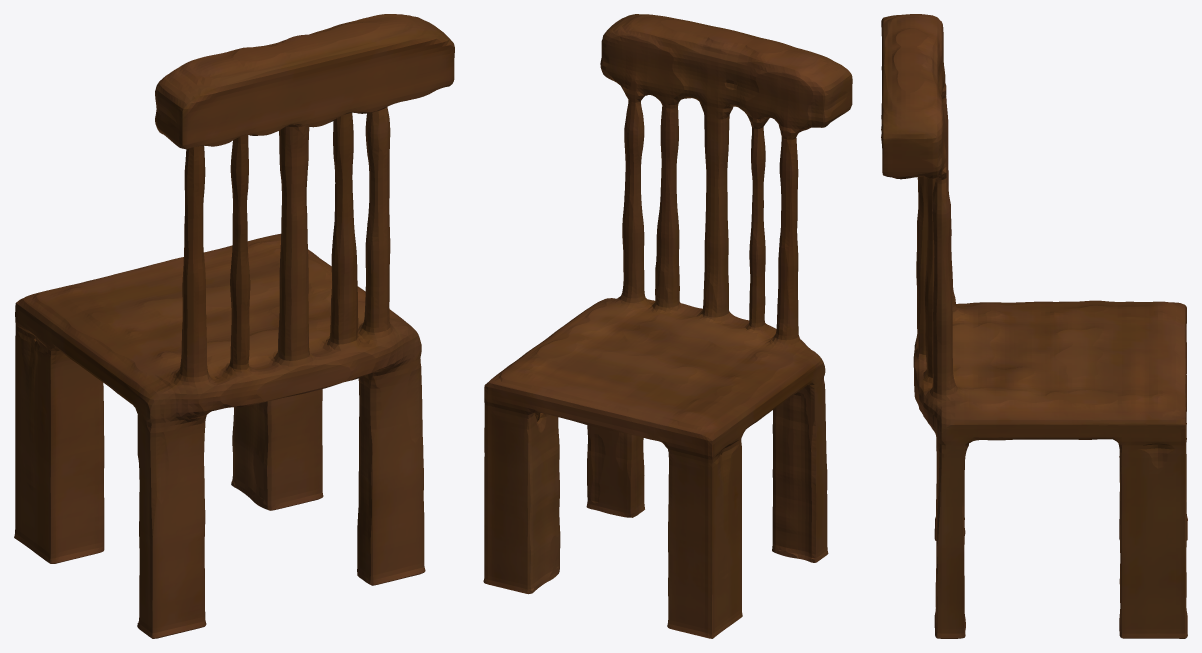
Rendered from chair.glb.
The picture shows the model from 3 angles, left to right: view 1: azimuth 30°, elevation 25°; view 2: azimuth 150°, elevation 25°; view 3: azimuth 270°, elevation 25°; orthographic projection. The views are drawn at different scales.
Visible parts, largest first — view 1: tmp57_q0vhh.ply; view 2: tmp57_q0vhh.ply; view 3: tmp57_q0vhh.ply.
Part boxes in pixels (bbox=[...]): tmp57_q0vhh.ply: bbox=[14, 14, 454, 638]; tmp57_q0vhh.ply: bbox=[483, 14, 852, 638]; tmp57_q0vhh.ply: bbox=[881, 14, 1187, 638].
Bounding box in the file's own units: 0.99 × 1.98 × 1.06.
